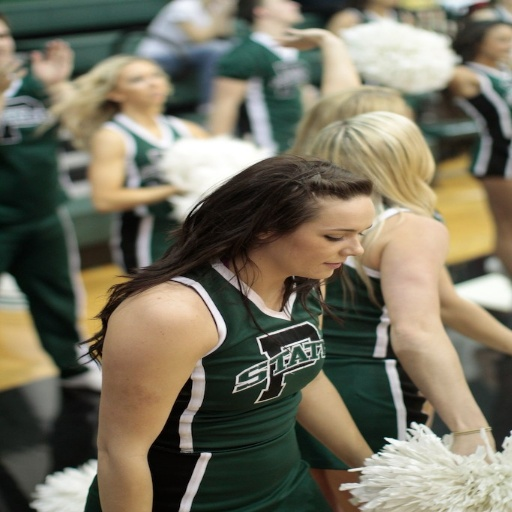hand: (272, 18, 353, 53), (32, 39, 74, 84), (447, 431, 497, 463), (0, 56, 26, 98)
